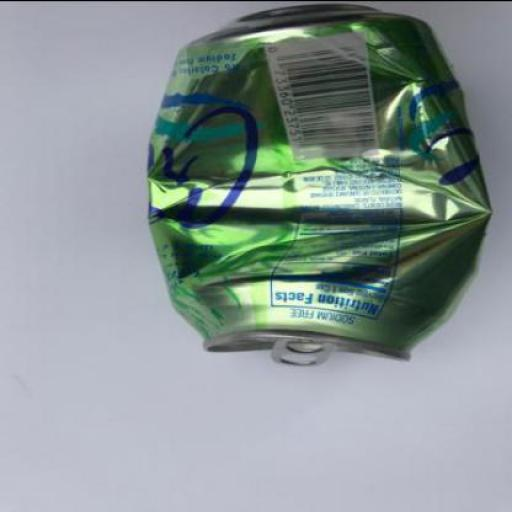metal: (144, 5, 494, 367)
